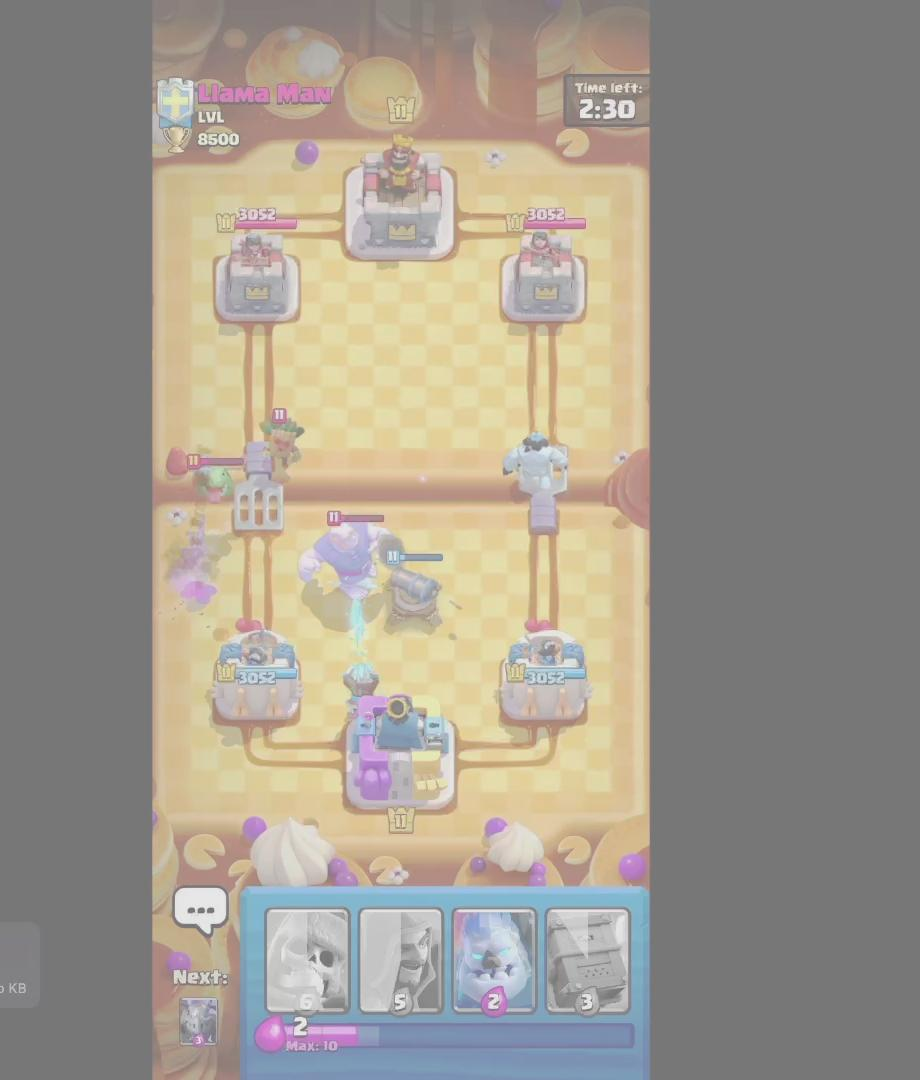Baby Dragon: (174, 445, 256, 512)
Dart Goblin: (250, 401, 315, 481)
Giant: (296, 499, 396, 612)
